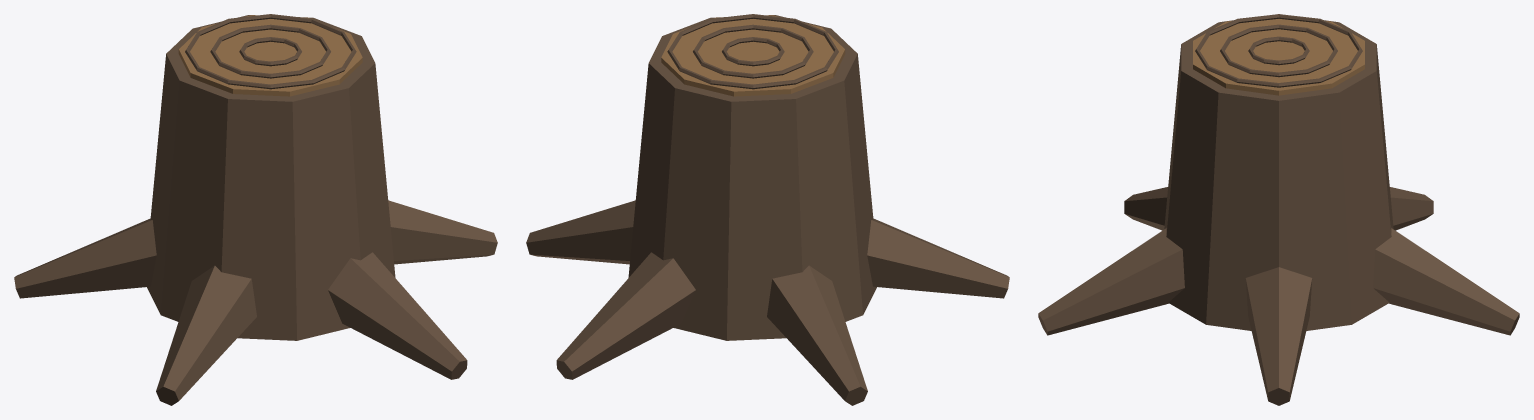
The model's file is vegetation-stump.lod0.glb.
3 views of the same model, side by side, from view 1: azimuth 30°, elevation 25°; view 2: azimuth 150°, elevation 25°; view 3: azimuth 270°, elevation 25° (orthographic). The views are drawn at different scales.
Visible parts, largest first — view 1: vegetation-stump__body; view 2: vegetation-stump__body; view 3: vegetation-stump__body.
Part boxes in pixels (x1,y1,x2,y2): vegetation-stump__body: (14,14,497,405); vegetation-stump__body: (526,14,1009,405); vegetation-stump__body: (1038,14,1519,405).
Size of the model in its own units: 1.3 by 0.7893 by 1.36.
